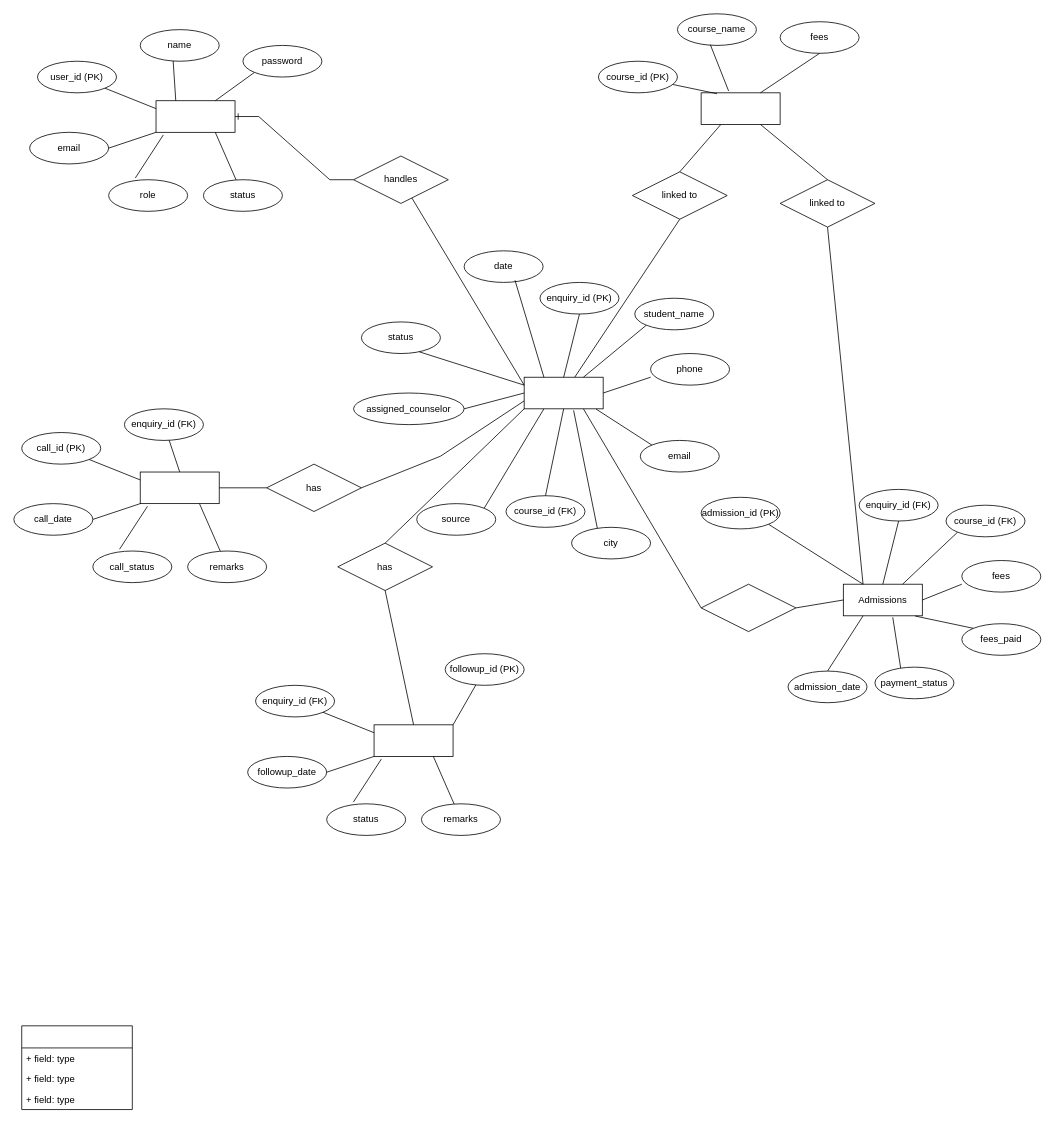
Image size: 1055x1126. Some labels were removed from this diagram. Here are the shapes that lost their labels. From the top down, the box of each, then its label:
(155, 100, 235, 132): Users
(700, 92, 780, 124): Courses
(523, 376, 603, 409): Enquiries
(139, 471, 219, 504): Call_Records
(700, 583, 796, 632): converted to
(373, 724, 453, 756): Followups
(21, 1025, 132, 1110): Classname
